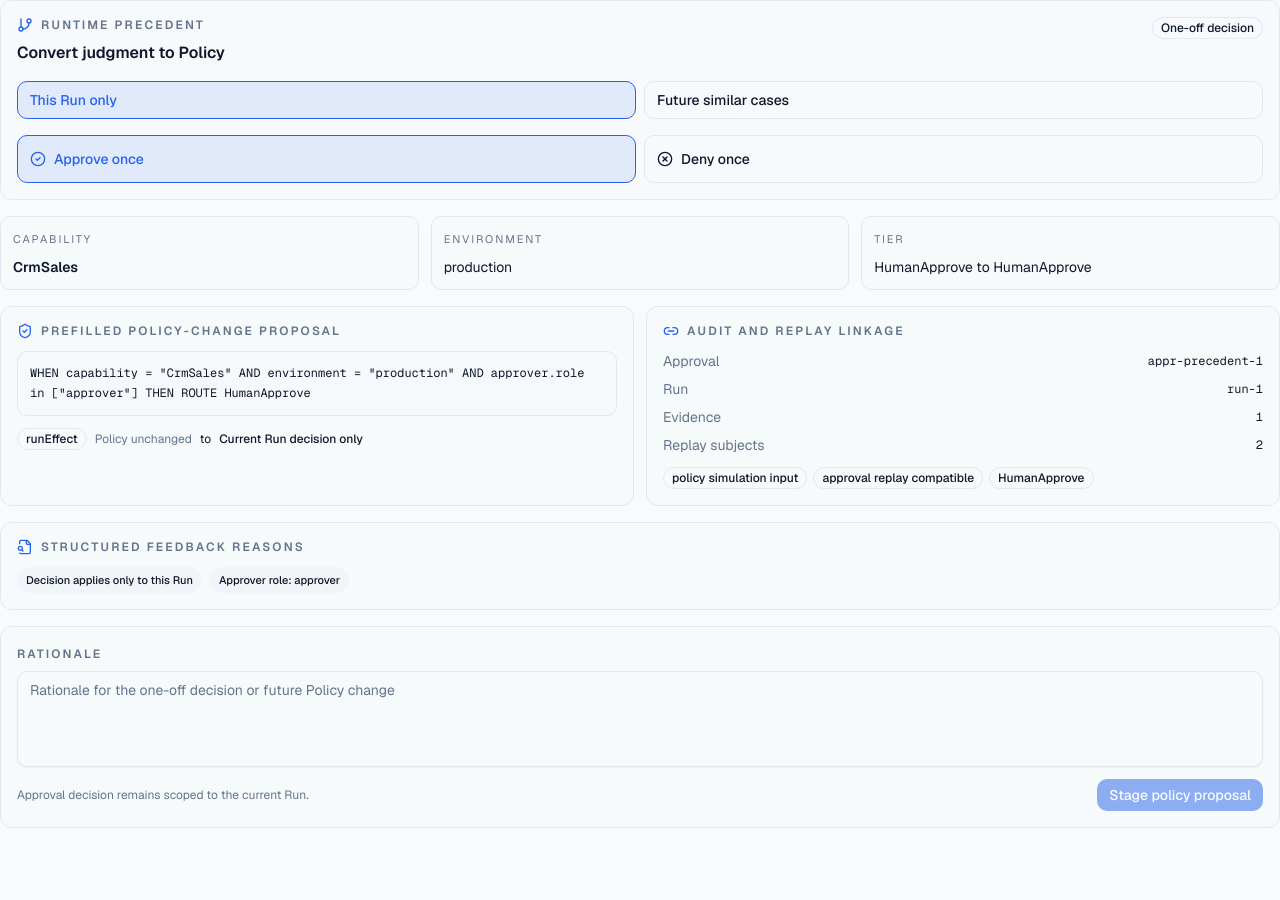
Scenario: PolicyPrecedentMode › stages a future policy proposal with approval and evidence linkage
What coordinates should you click on to do the following:
click the button "Future similar cases"
I would click on:
 (723, 100)
Its box is [644, 81, 1263, 119].
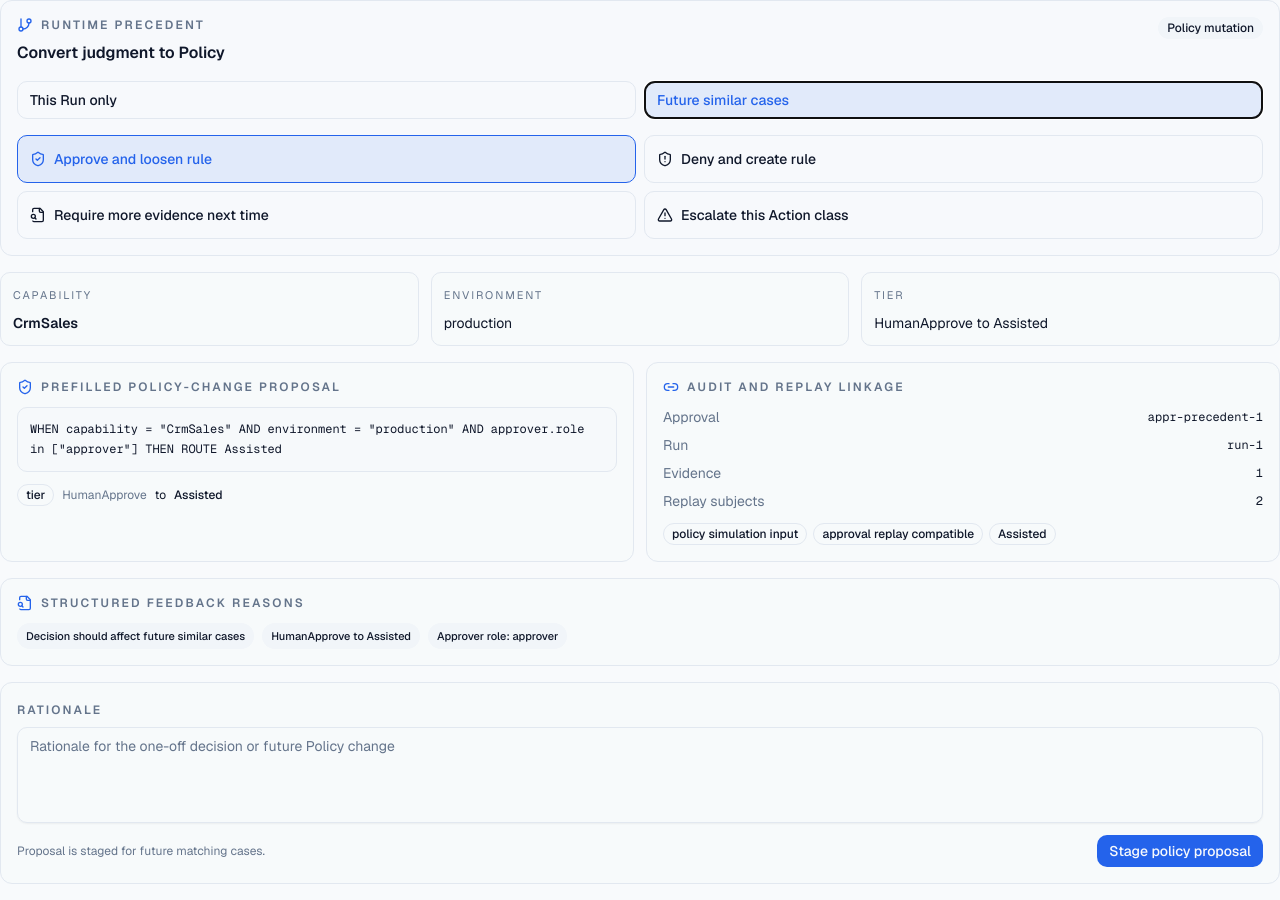
What coordinates should you click on to do the following:
click the button "Stage policy proposal"
I would click on:
 (1180, 851)
Its box is [1097, 835, 1263, 867].
(page scrolled)
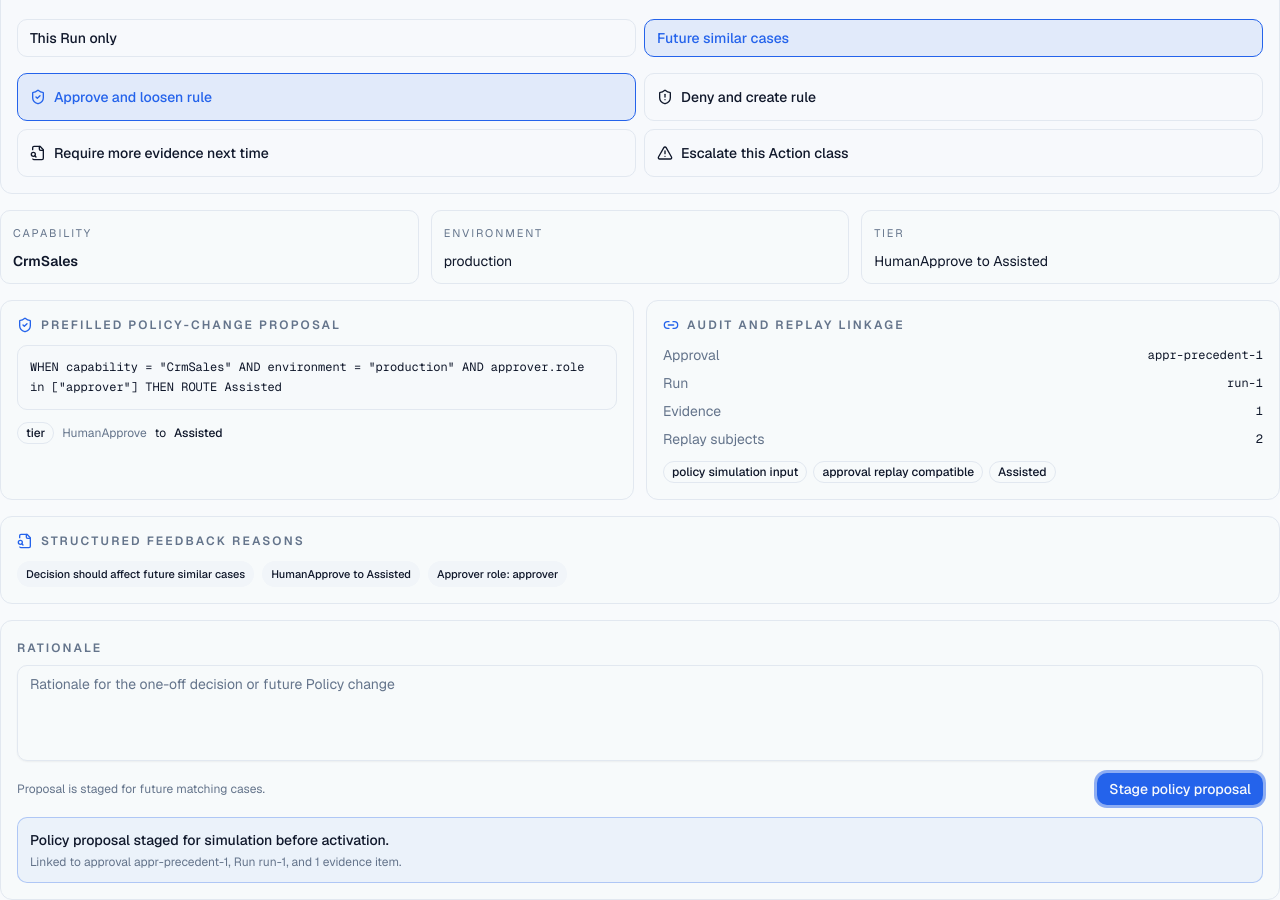
expect the text "Policy proposal staged for simulation before activation." is shown: met, box [30, 831, 389, 849]
expect the text "Linked to approval appr-precedent-1, Run run-1" is shown: met, box [30, 854, 401, 870]
